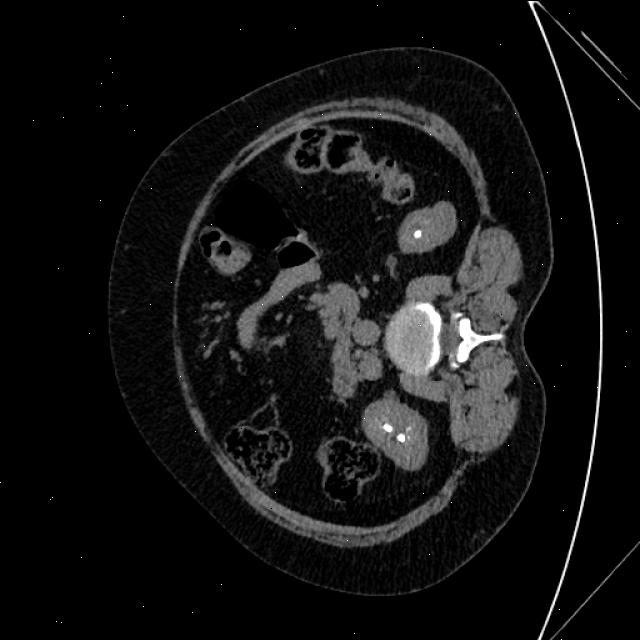kidneystone: (382, 422, 392, 431), (414, 229, 422, 238), (396, 434, 405, 441)
